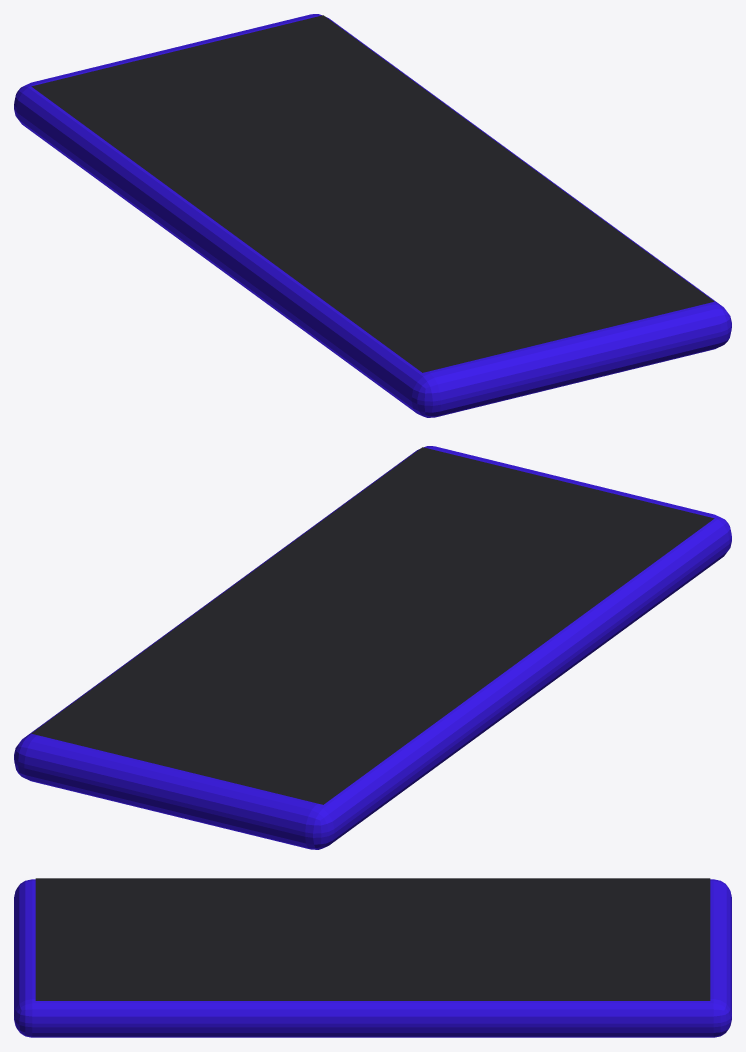
Rendered from Phone_149.glb.
The picture shows the model from 3 angles, top to bottom: view 1: azimuth 30°, elevation 25°; view 2: azimuth 150°, elevation 25°; view 3: azimuth 270°, elevation 25°; orthographic projection. The views are drawn at different scales.
Visible parts, largest first — view 1: Phone_Screen, Phone_Body; view 2: Phone_Screen, Phone_Body; view 3: Phone_Screen, Phone_Body.
Part boxes in pixels (<box>): Phone_Screen: <box>31,15,714,372</box>; Phone_Body: <box>14,14,731,417</box>; Phone_Screen: <box>31,447,714,804</box>; Phone_Body: <box>14,446,731,849</box>; Phone_Screen: <box>35,878,710,1000</box>; Phone_Body: <box>14,879,731,1037</box>.
Bounding box in the file's own units: 0.072 × 0.0094 × 0.1635.
